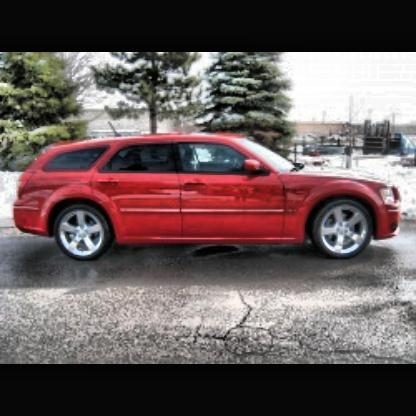Dodge Magnum Wagon 2008: (15, 135, 404, 266)
